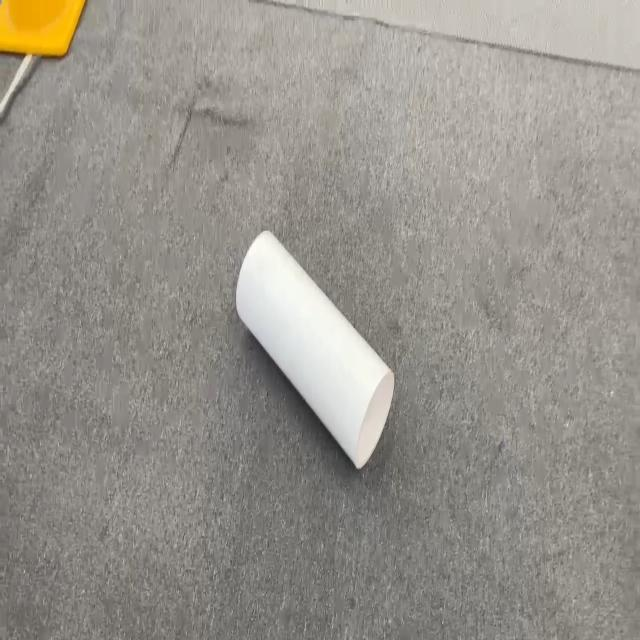coral: (235, 228, 395, 470)
